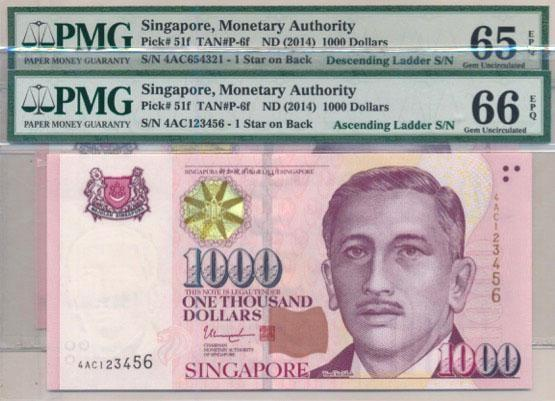1000SingaporeDollar: (50, 155, 533, 387)
